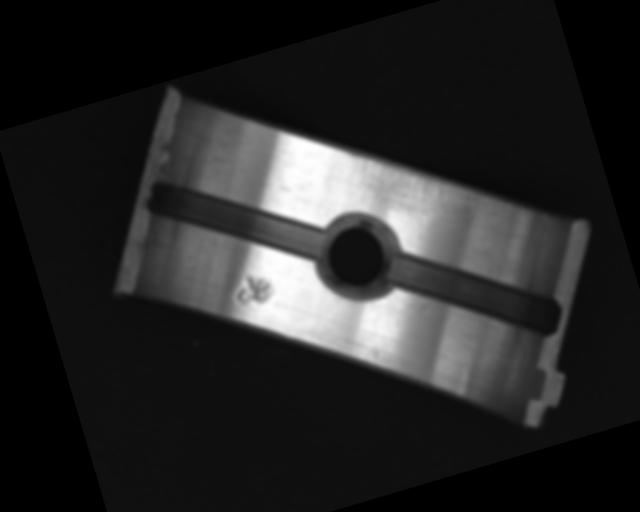bruise: (229, 265, 278, 311)
gap: (143, 140, 329, 300), (382, 213, 567, 371)
hole: (303, 204, 409, 311)
scratch: (341, 113, 493, 247)
